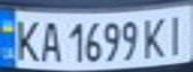1: (63, 18, 84, 63)
6: (81, 18, 106, 63)
9: (100, 17, 124, 63), (118, 16, 142, 62)
A: (36, 17, 63, 63)
I: (163, 9, 193, 57)
K: (139, 12, 172, 60), (9, 15, 42, 63)
